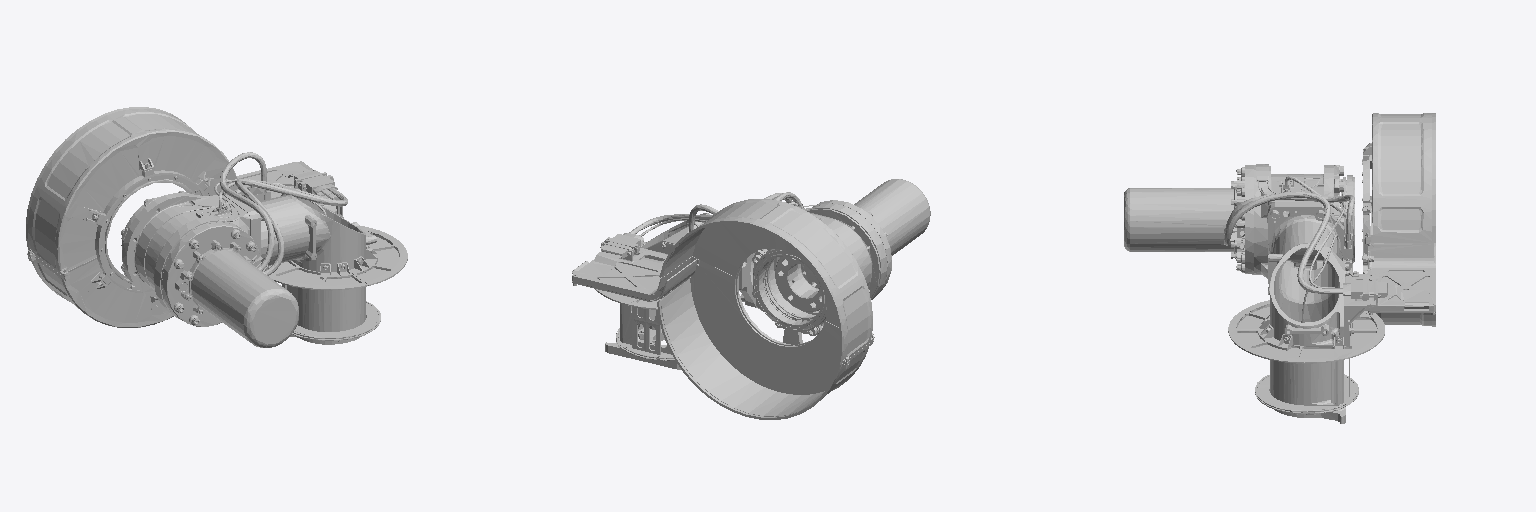
The model's file is Arm_LINK_4.obj.
The picture shows the model from 3 angles: view 1: azimuth 30°, elevation 25°; view 2: azimuth 150°, elevation 25°; view 3: azimuth 270°, elevation 25°; orthographic projection.
Parts seen in each view (by area): view 1: Arm_LINK_4.obj; view 2: Arm_LINK_4.obj; view 3: Arm_LINK_4.obj.
Boxes of the visible parts, x1,y1,x2,y2 form: Arm_LINK_4.obj: [26, 107, 407, 347]; Arm_LINK_4.obj: [572, 179, 930, 419]; Arm_LINK_4.obj: [1124, 113, 1435, 423].
Size of the model in its own units: 0.3718 by 0.2393 by 0.3252.